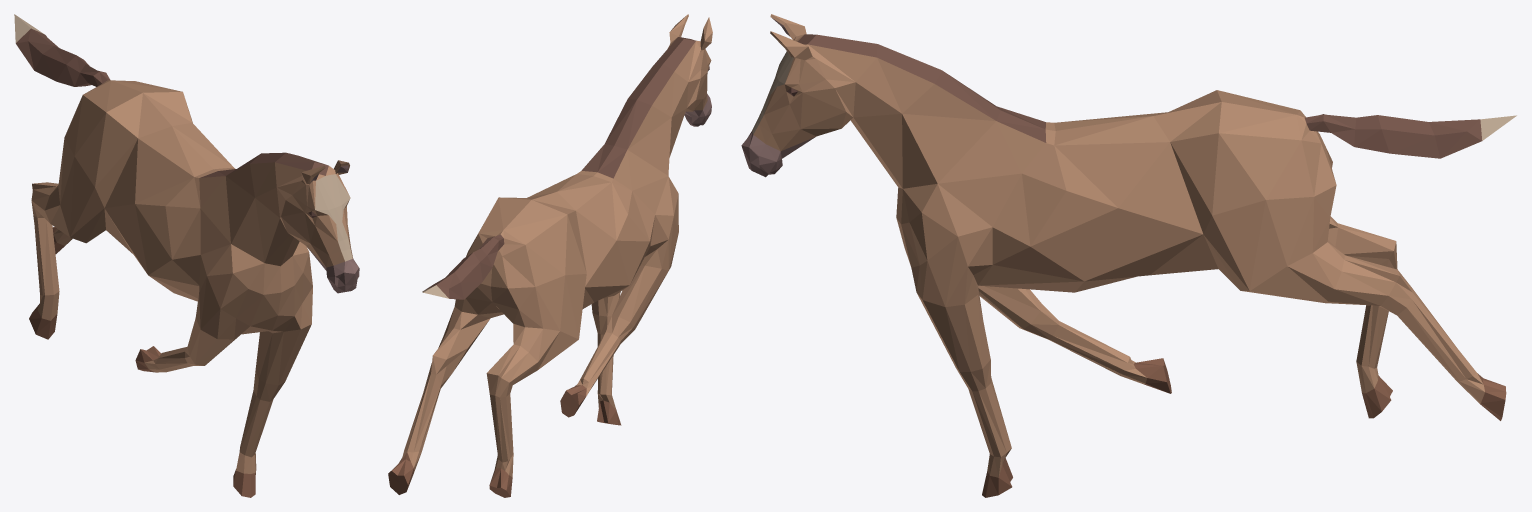
File: horse.glb
The picture shows the model from 3 angles, left to right: view 1: azimuth 30°, elevation 25°; view 2: azimuth 150°, elevation 25°; view 3: azimuth 270°, elevation 25°; orthographic projection. The views are drawn at different scales.
Visible parts, largest first — view 1: mesh_0; view 2: mesh_0; view 3: mesh_0.
Part boxes in pixels (box(x1,y1,x2,y2)): mesh_0: box(14, 14, 359, 497); mesh_0: box(388, 14, 712, 497); mesh_0: box(741, 14, 1516, 497).
Size of the model in its own units: 65.05 by 198 by 295.
